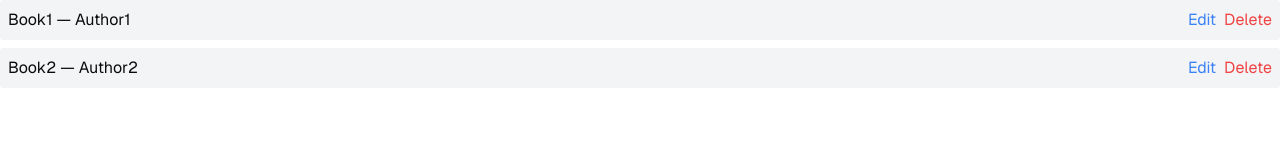
BooksList › can enter edit mode
Expected: the text "Book1 — Author1" is shown, [8,8,130,32]
Click the button "Edit" in the row of "Book1": (1202, 20) [1188,8,1216,32]
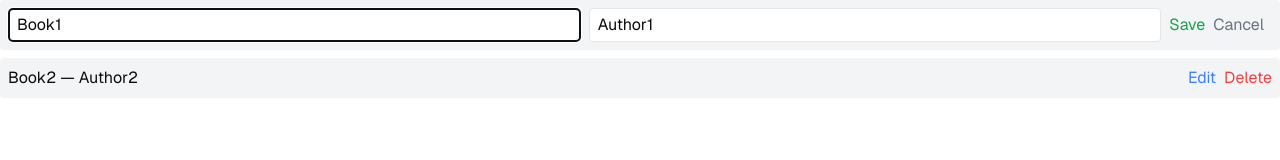
Result: the 1st field showing "Book1" is shown at [8,8,581,42]
Result: the 2nd field showing "Author1" is shown at [589,8,1161,42]
